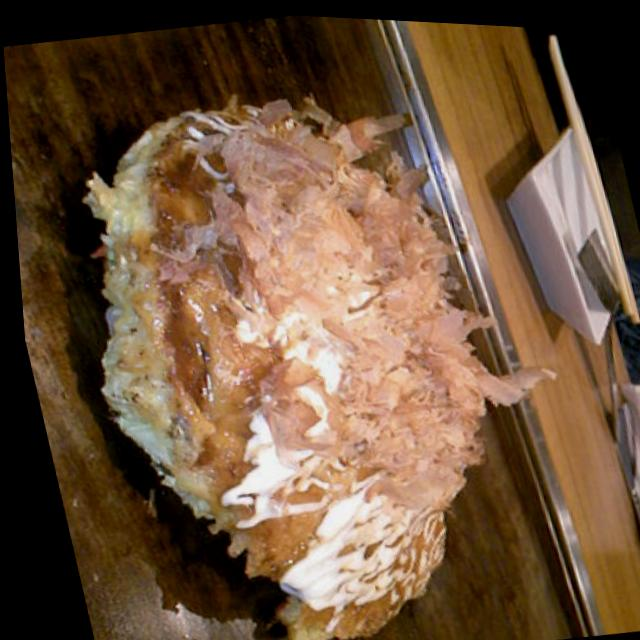蛋糕甜品: (38, 54, 556, 640)
